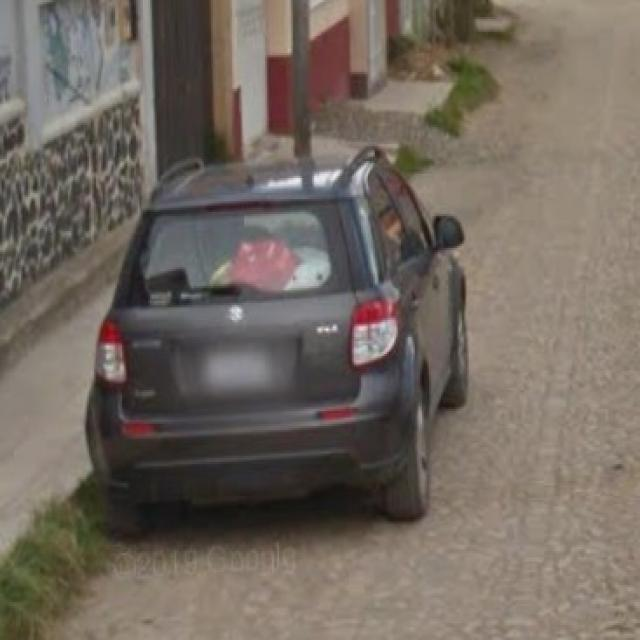cars: (88, 160, 472, 541)
